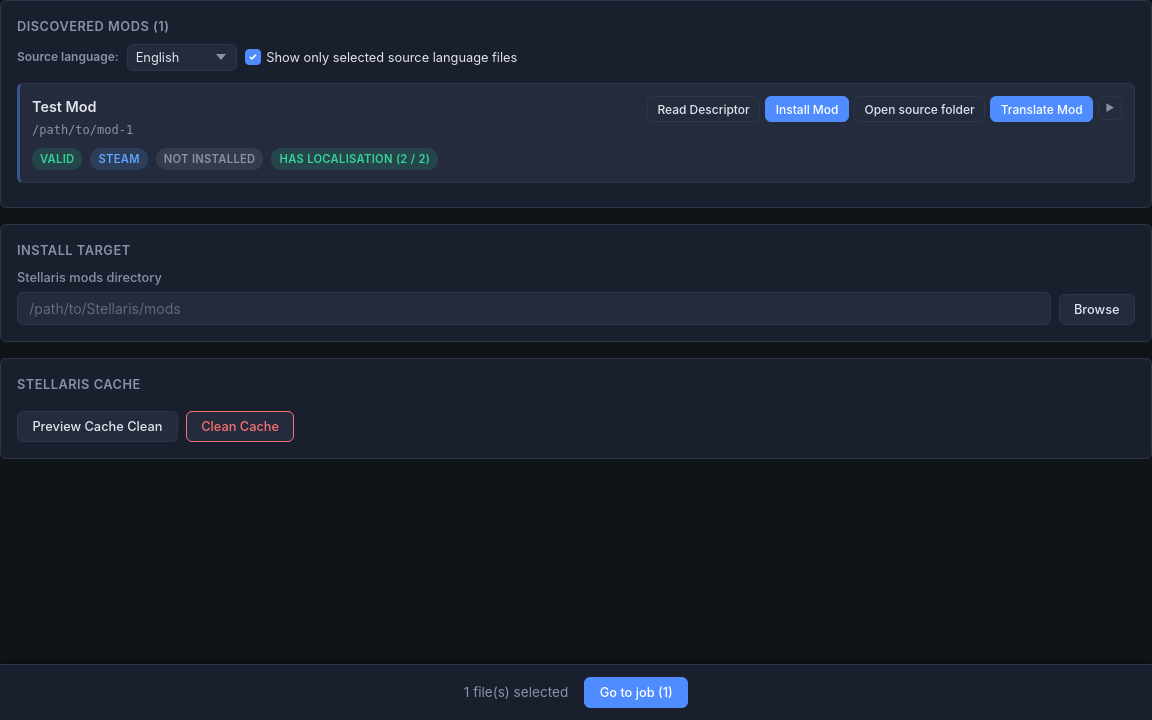
Scenario: ModListSection — draft job file sync › group button shows "Add group to Translation Job" when only some group files are in draft
Click the button titled "Expand". click: (1110, 108)
box: [1098,96,1122,120]
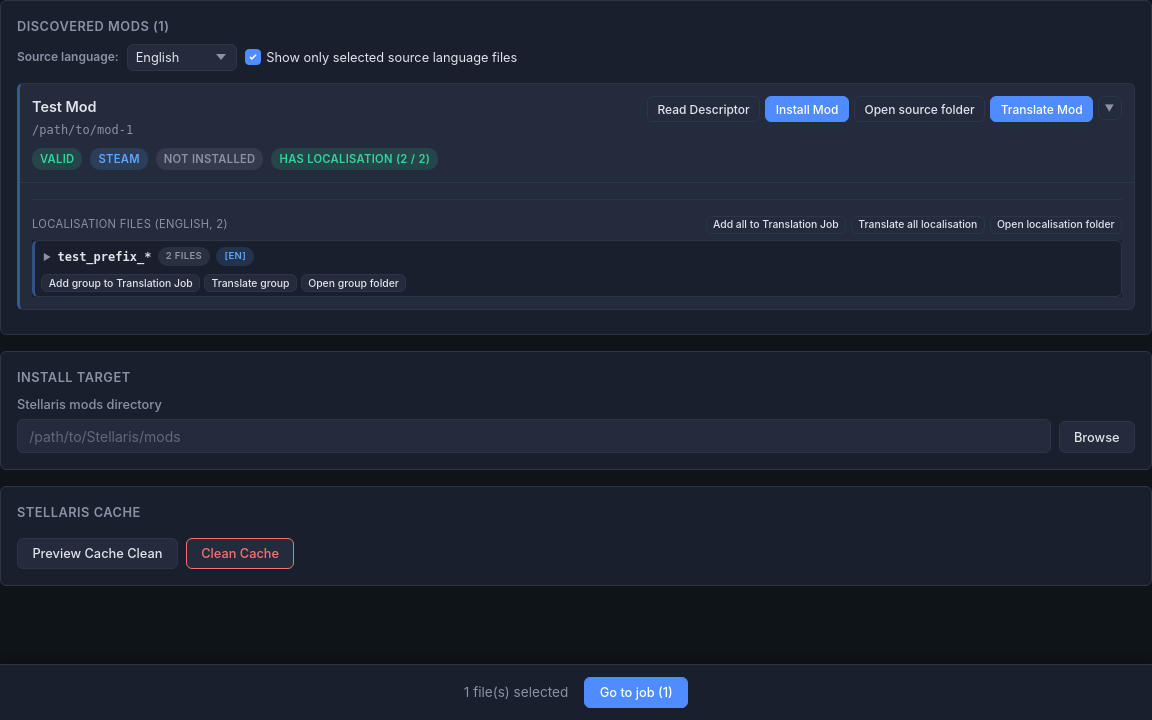
Check: the button "Add group to Translation Job" is shown, box [41,274,200,292]
